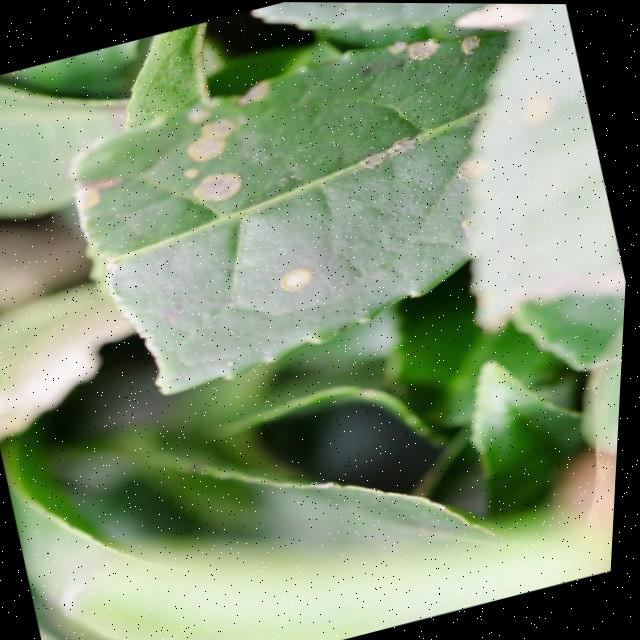Tea algae leaf spot: (89, 1, 515, 345)
